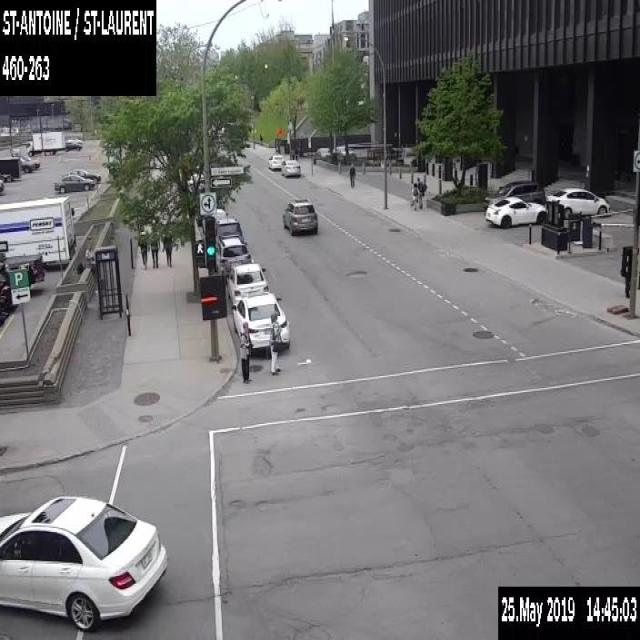construction: (274, 124, 284, 137)
pedestrian: (268, 309, 282, 375), (238, 319, 251, 384), (137, 230, 148, 270), (150, 228, 160, 268), (162, 232, 172, 268), (416, 176, 424, 208), (411, 182, 419, 210), (348, 162, 355, 188), (260, 134, 262, 144)
vehicle: (0, 493, 168, 632), (0, 193, 75, 267), (231, 290, 290, 354), (483, 179, 545, 211), (546, 187, 610, 218), (486, 195, 546, 228), (226, 262, 268, 308), (0, 252, 44, 292), (215, 236, 251, 284), (282, 198, 318, 238), (26, 130, 65, 155), (216, 216, 243, 251), (54, 173, 94, 192), (202, 208, 228, 234), (0, 155, 21, 181), (61, 168, 100, 182), (0, 272, 11, 316), (280, 158, 299, 176), (21, 154, 40, 168), (268, 153, 283, 169), (20, 156, 34, 171), (64, 142, 82, 150), (68, 136, 80, 144), (0, 178, 4, 191)
